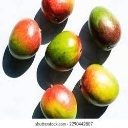mango: (40, 84, 77, 119)
